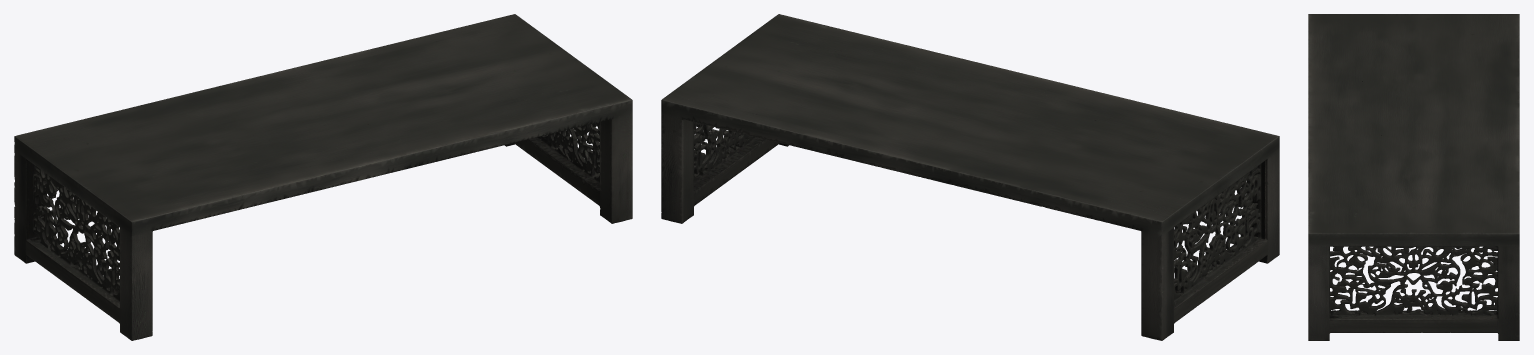
The model's file is Meshy_AI_Lattice_Panel_Coffee__0308193135_texture.fbx.
3 views of the same model, side by side, from view 1: azimuth 30°, elevation 25°; view 2: azimuth 150°, elevation 25°; view 3: azimuth 270°, elevation 25° (orthographic). The views are drawn at different scales.
Visible parts, largest first — view 1: Mesh_0; view 2: Mesh_0; view 3: Mesh_0.
Part boxes in pixels (<box>): Mesh_0: <box>14,14,632,340</box>; Mesh_0: <box>661,14,1279,340</box>; Mesh_0: <box>1308,14,1519,340</box>.
Bounding box in the file's own units: 4352 × 1000 × 1770.
1 material, 1 textured.
